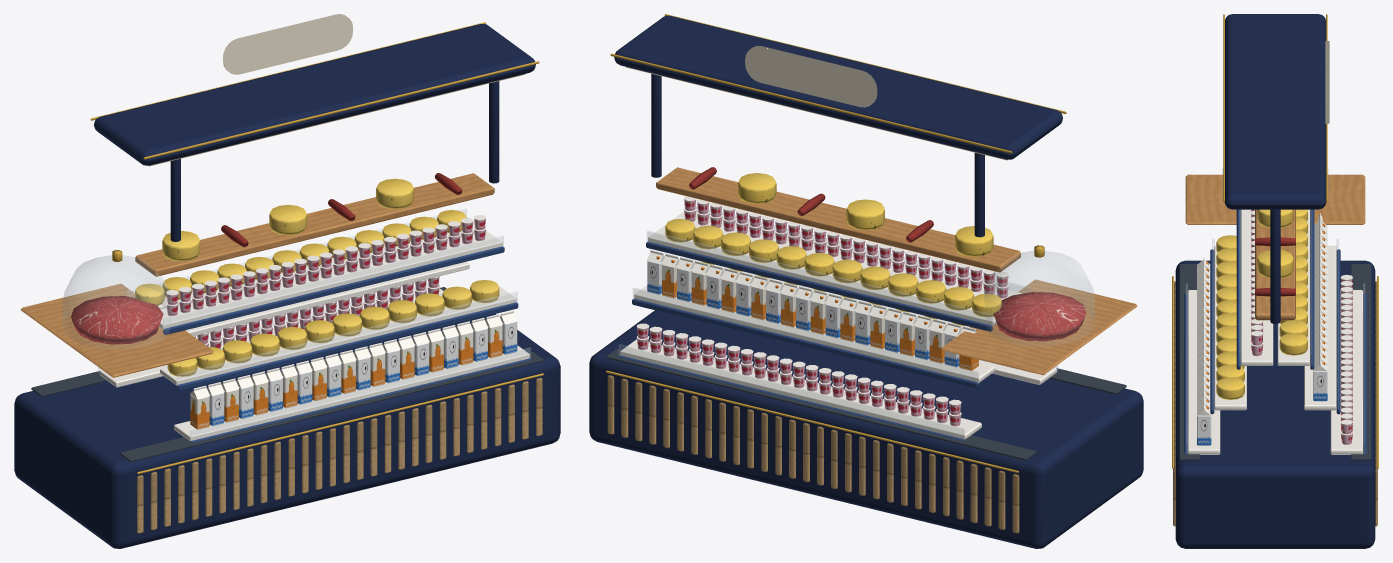
The model's file is dairy_T4.fbx.
3 renders of one model, left to right at view 1: azimuth 30°, elevation 25°; view 2: azimuth 150°, elevation 25°; view 3: azimuth 270°, elevation 25°, orthographic. The views are drawn at different scales.
Visible parts, largest first — view 1: Body, Anim Fill 1, Anim Fill 2, Anim Fill 0, Anim Fill 3; view 2: Body, Anim Fill 1, Anim Fill 2, Anim Fill 0, Anim Fill 3; view 3: Body, Anim Fill 0, Anim Fill 1, Anim Fill 2, Anim Fill 3.
Part boxes in pixels (x1,y1,x2,y2): Body: (14,14,560,548); Anim Fill 1: (248,230,444,397); Anim Fill 2: (162,257,326,426); Anim Fill 0: (363,210,517,368); Anim Fill 3: (135,283,209,429); Body: (589,14,1143,548); Anim Fill 1: (715,215,882,394); Anim Fill 2: (832,244,1017,422); Anim Fill 0: (636,196,770,365); Anim Fill 3: (949,272,1032,426); Body: (1172,14,1378,548); Anim Fill 0: (1197,301,1352,445); Anim Fill 1: (1197,246,1352,397); Anim Fill 2: (1197,209,1352,342); Anim Fill 3: (1197,213,1352,288).
Bounding box in the file's own units: 2.46 × 2.13 × 1.01.
